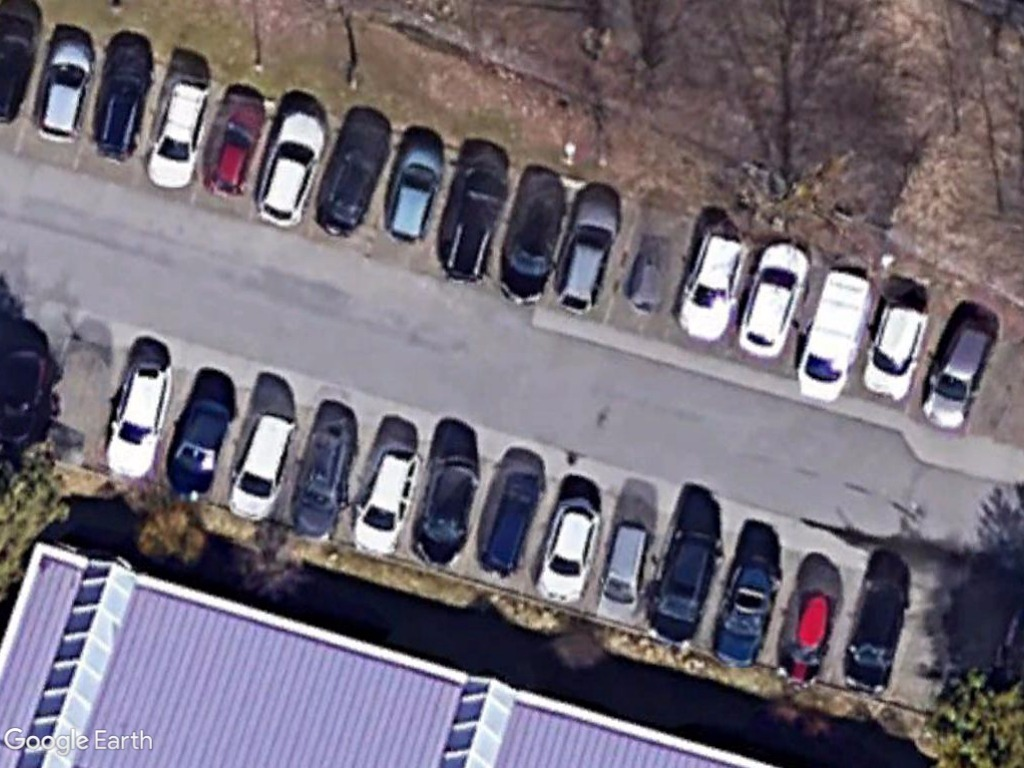car: (497, 172, 575, 307), (100, 347, 176, 485), (345, 434, 424, 565), (253, 102, 333, 228), (551, 181, 625, 317), (919, 310, 1002, 431), (438, 153, 513, 286), (226, 399, 301, 526), (143, 69, 219, 194), (735, 239, 813, 360), (317, 111, 390, 237), (413, 446, 487, 570), (676, 226, 752, 343), (649, 524, 725, 641), (291, 420, 361, 543), (861, 297, 939, 407), (166, 385, 237, 505), (709, 554, 780, 670), (535, 483, 598, 607), (382, 136, 451, 246), (34, 33, 98, 150), (203, 91, 269, 201), (594, 514, 657, 628), (91, 53, 156, 163)
van: (790, 262, 877, 405)
